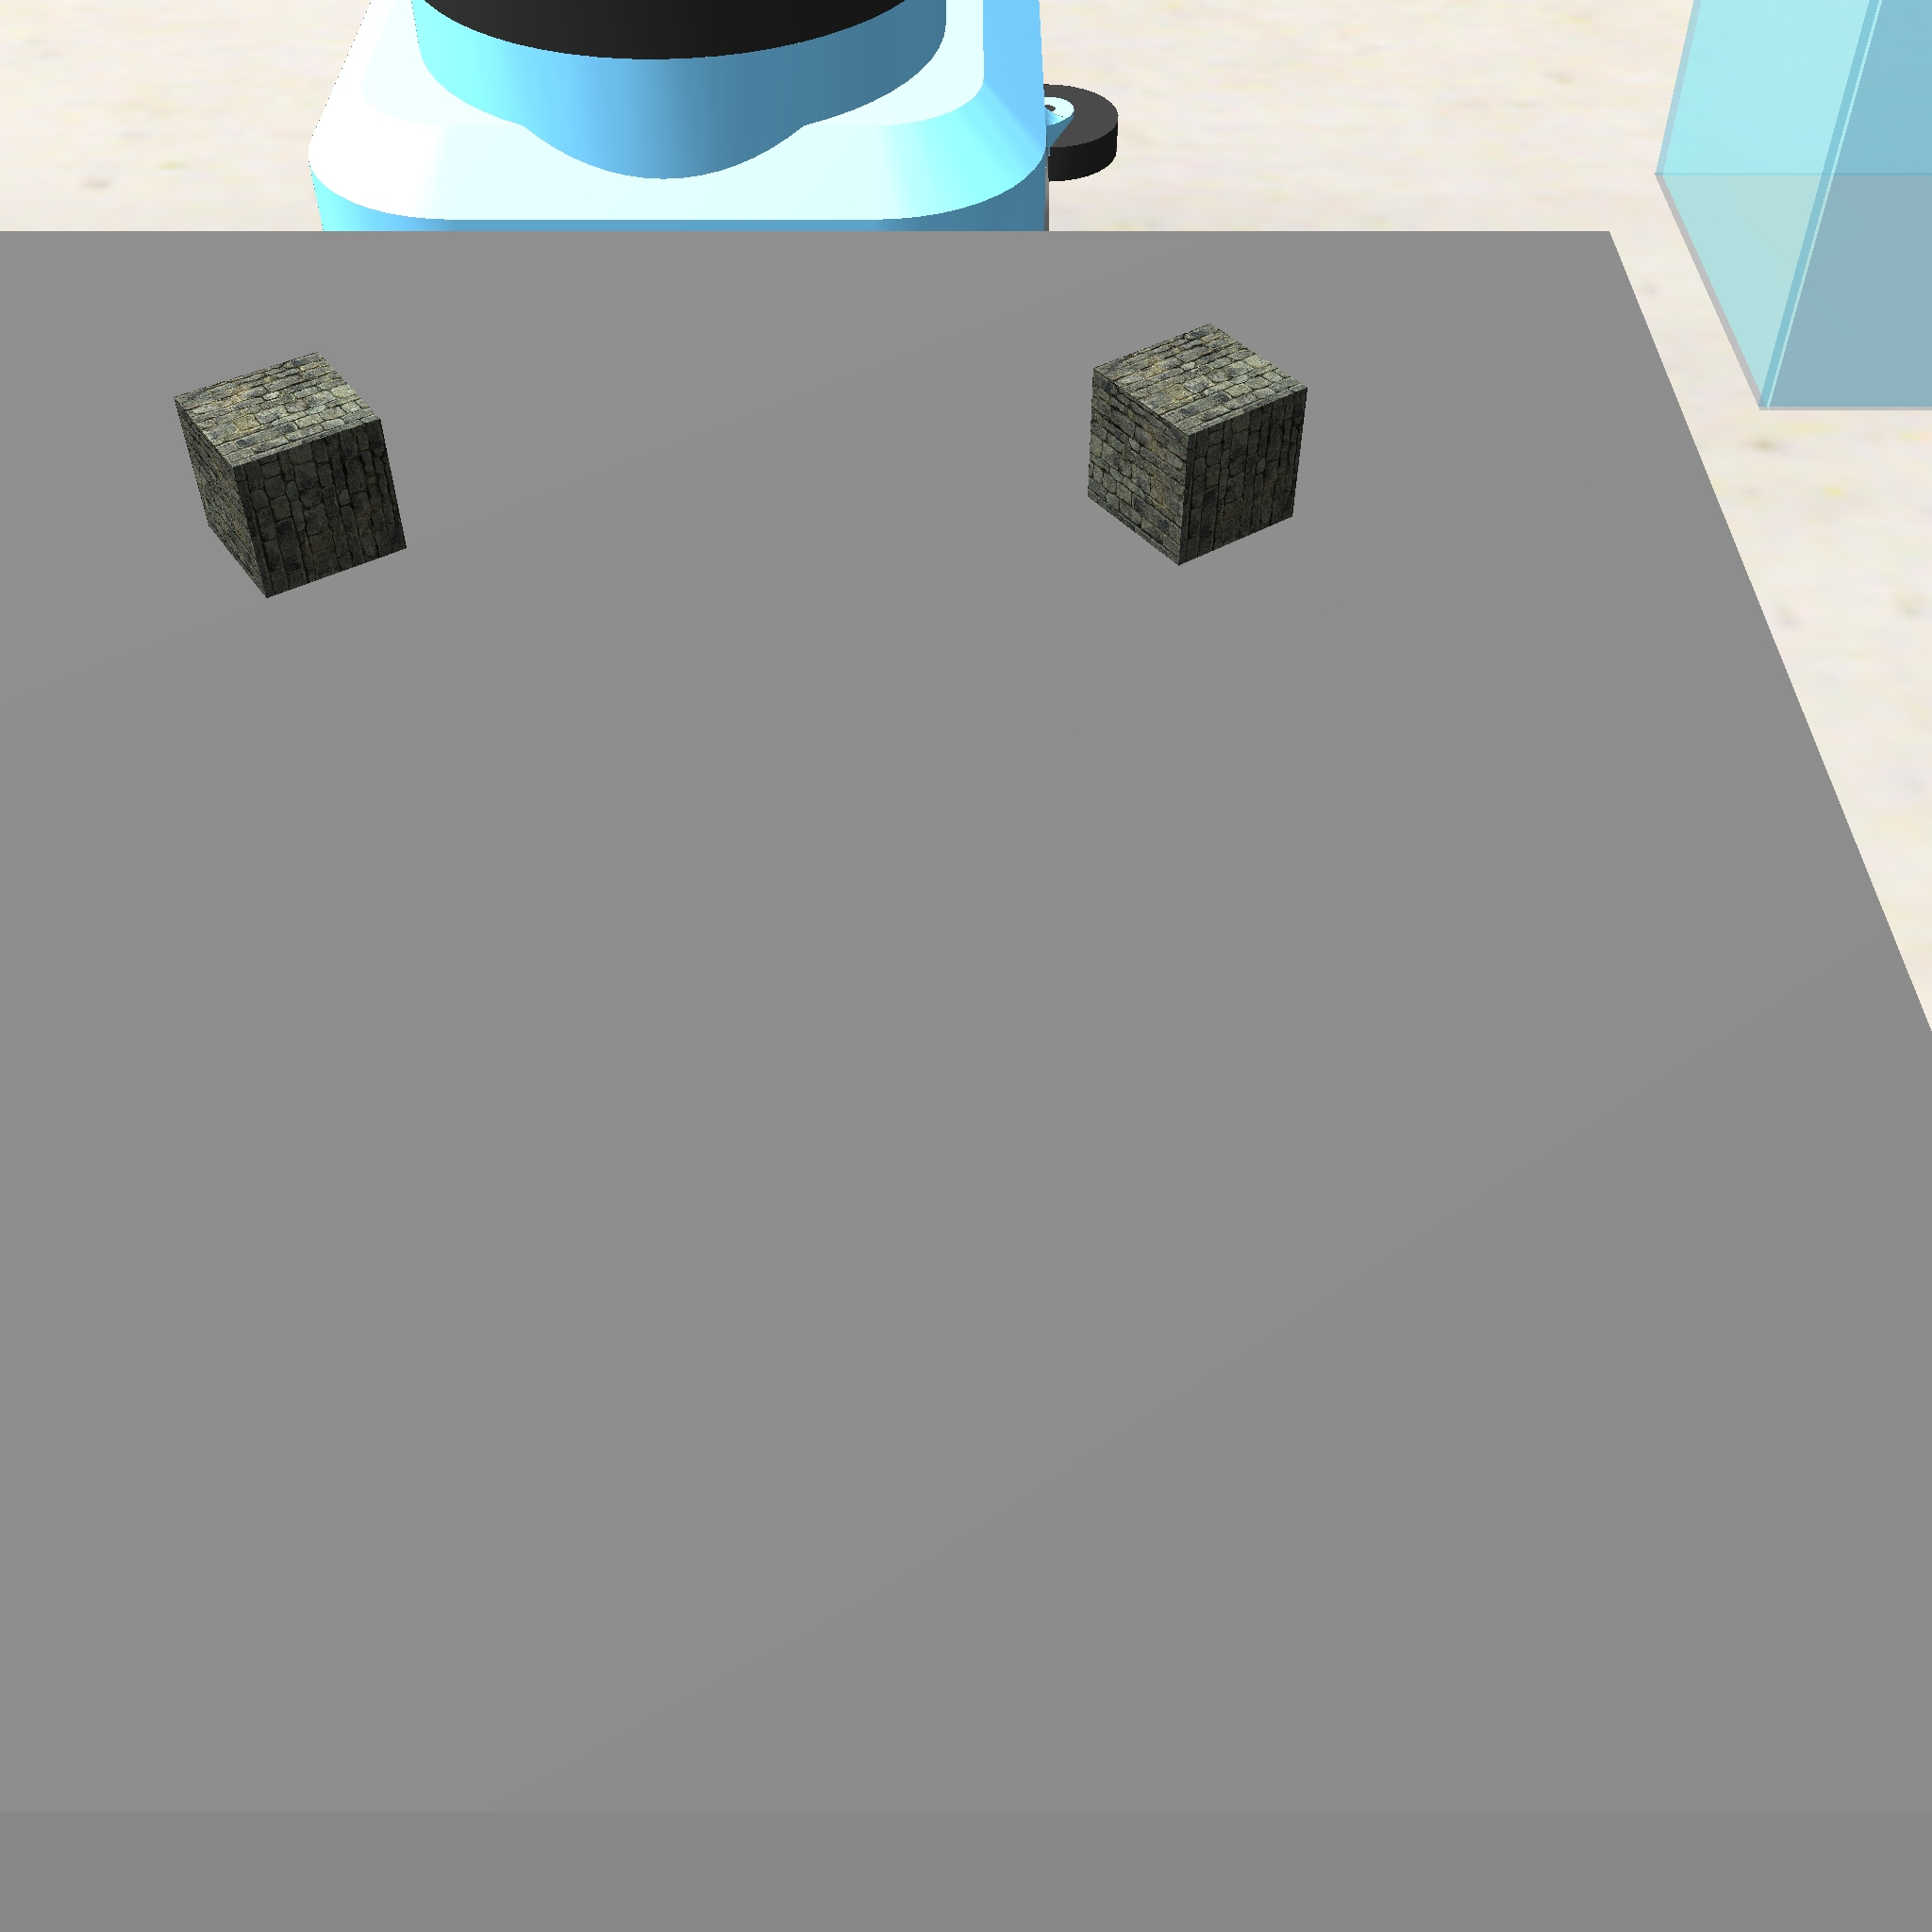cube: (165, 347, 419, 609), (1077, 315, 1315, 571)
